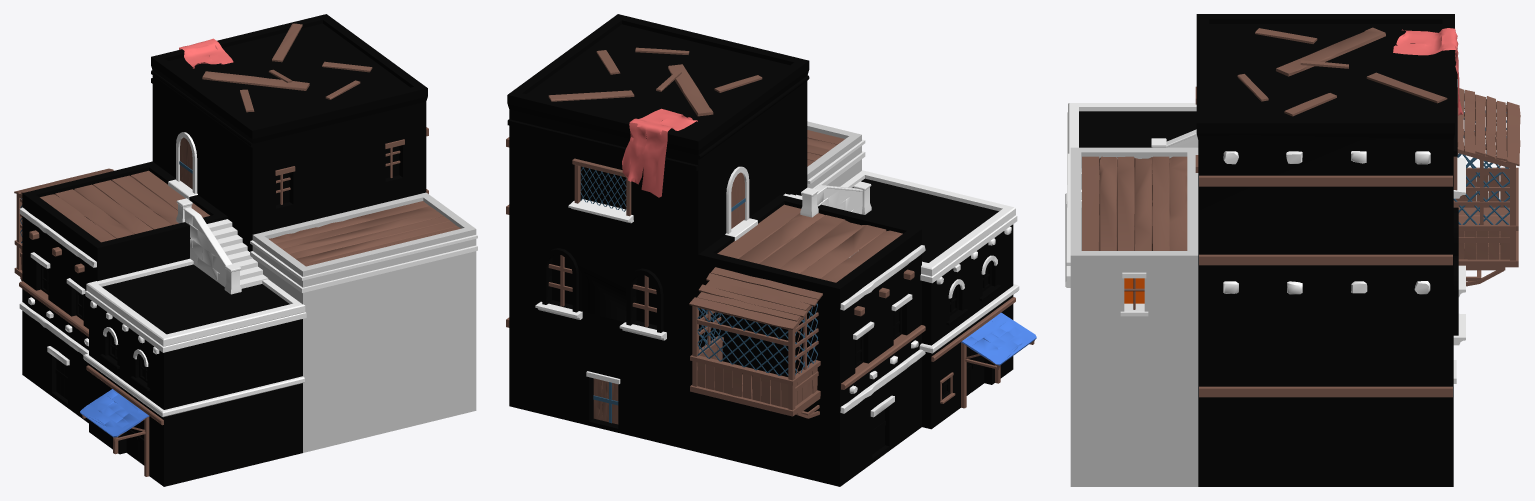
File: civilian_house_14.FBX
3 renders of one model, left to right at view 1: azimuth 30°, elevation 25°; view 2: azimuth 150°, elevation 25°; view 3: azimuth 270°, elevation 25°, orthographic. The views are drawn at different scales.
Visible parts, largest first — view 1: civilian_house_14_LOD0; view 2: civilian_house_14_LOD0; view 3: civilian_house_14_LOD0.
Boxes of the visible parts, bbox=[...] form: civilian_house_14_LOD0: bbox=[14, 14, 477, 486]; civilian_house_14_LOD0: bbox=[506, 14, 1036, 486]; civilian_house_14_LOD0: bbox=[1065, 14, 1520, 486].
Size of what is drawn, in the model's own units: 2026 by 1592 by 1783.
